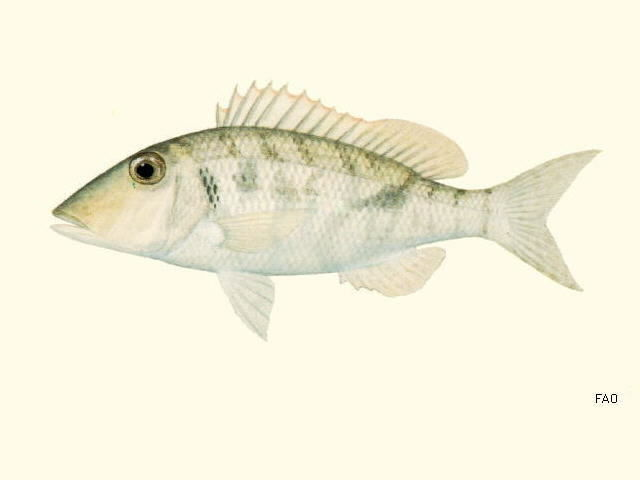fish: (49, 81, 603, 343)
